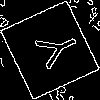Y: (25, 25, 83, 75)
